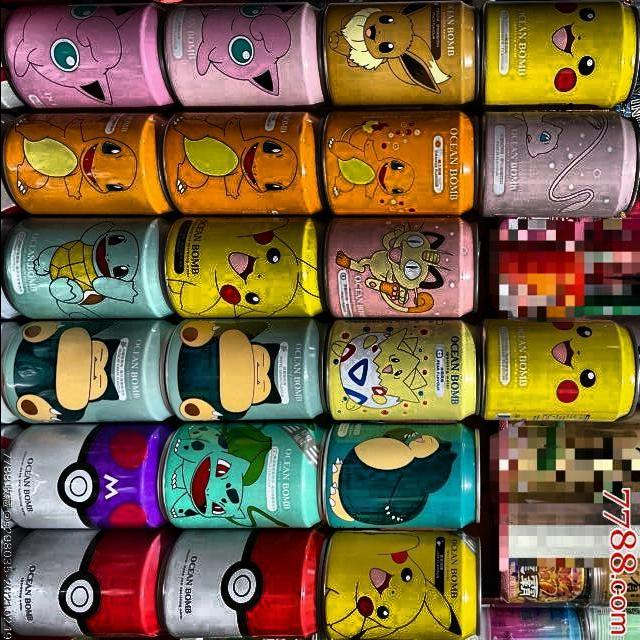litter: (158, 522, 333, 640), (0, 523, 175, 640), (6, 417, 185, 531), (157, 423, 348, 529), (320, 106, 487, 225), (479, 99, 640, 221), (0, 0, 177, 110), (0, 321, 182, 425), (155, 0, 330, 108), (320, 527, 486, 640), (157, 315, 329, 424), (323, 421, 489, 533), (322, 0, 493, 107), (156, 110, 327, 217), (321, 315, 482, 426), (478, 0, 640, 110), (2, 217, 180, 317), (480, 314, 640, 425), (325, 216, 487, 325), (160, 217, 331, 319), (3, 115, 171, 213)
